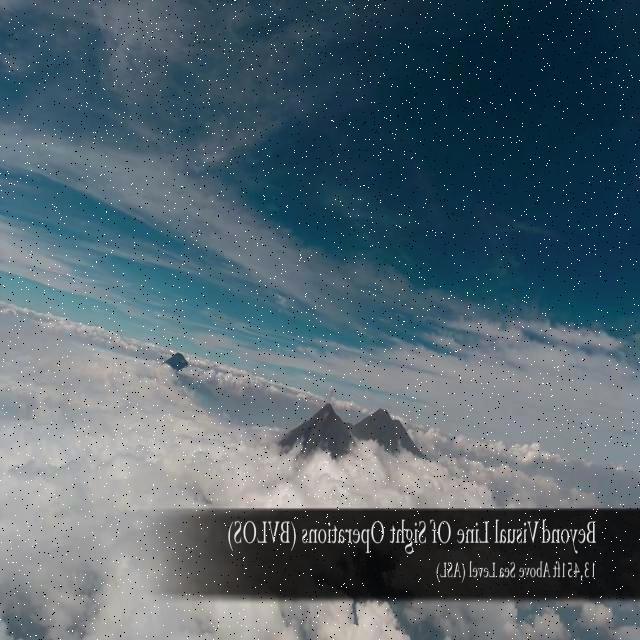Plume: (325, 384, 335, 404)
Summit: (310, 400, 340, 422)
